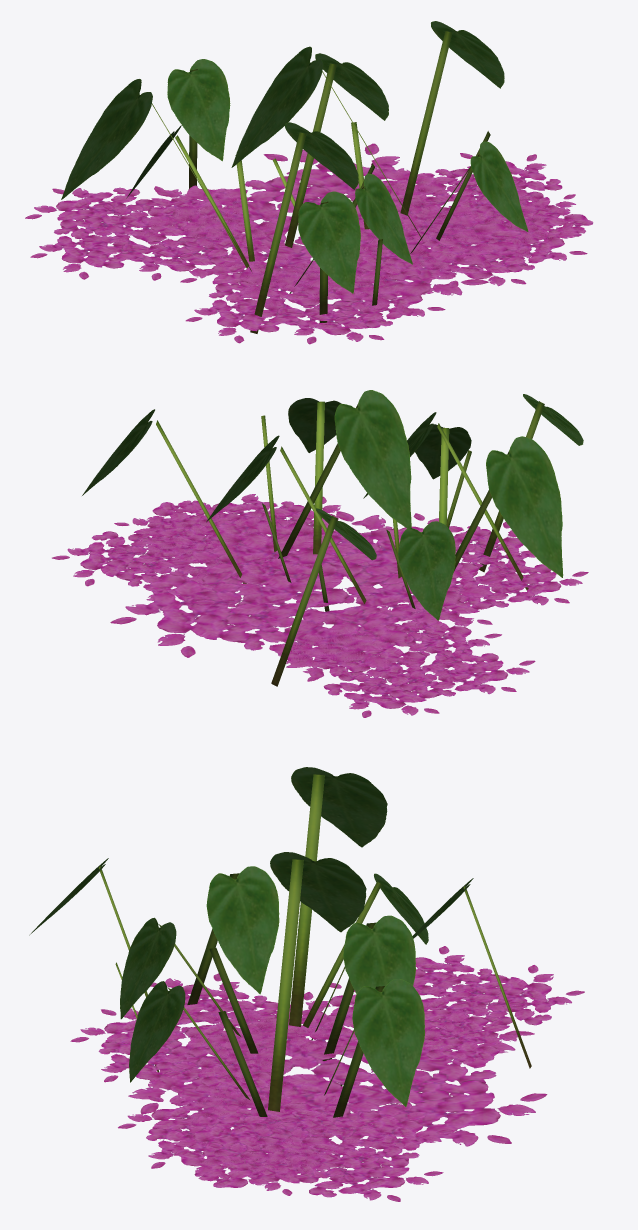
File: leafplant2_purple_lod2.fbx
3 views of the same model, one above another, from view 1: azimuth 30°, elevation 25°; view 2: azimuth 150°, elevation 25°; view 3: azimuth 270°, elevation 25° (orthographic). The views are drawn at different scales.
Parts seen in each view (by area): view 1: Mesh Object; view 2: Mesh Object; view 3: Mesh Object.
Boxes of the visible parts, <box> form: Mesh Object: <box>25,21,593,344</box>; Mesh Object: <box>52,390,588,717</box>; Mesh Object: <box>29,767,584,1201</box>.
Size of the model in its own units: 4.07 by 1.52 by 3.64.
